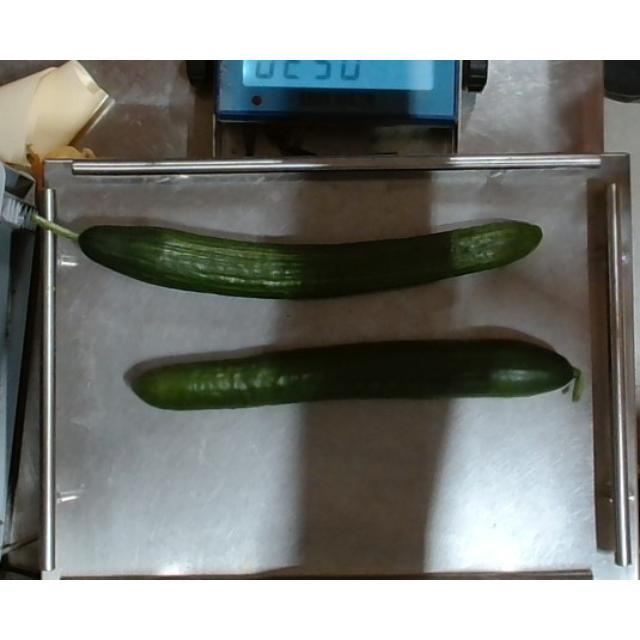cucumber: (31, 206, 545, 304), (123, 333, 595, 415)
